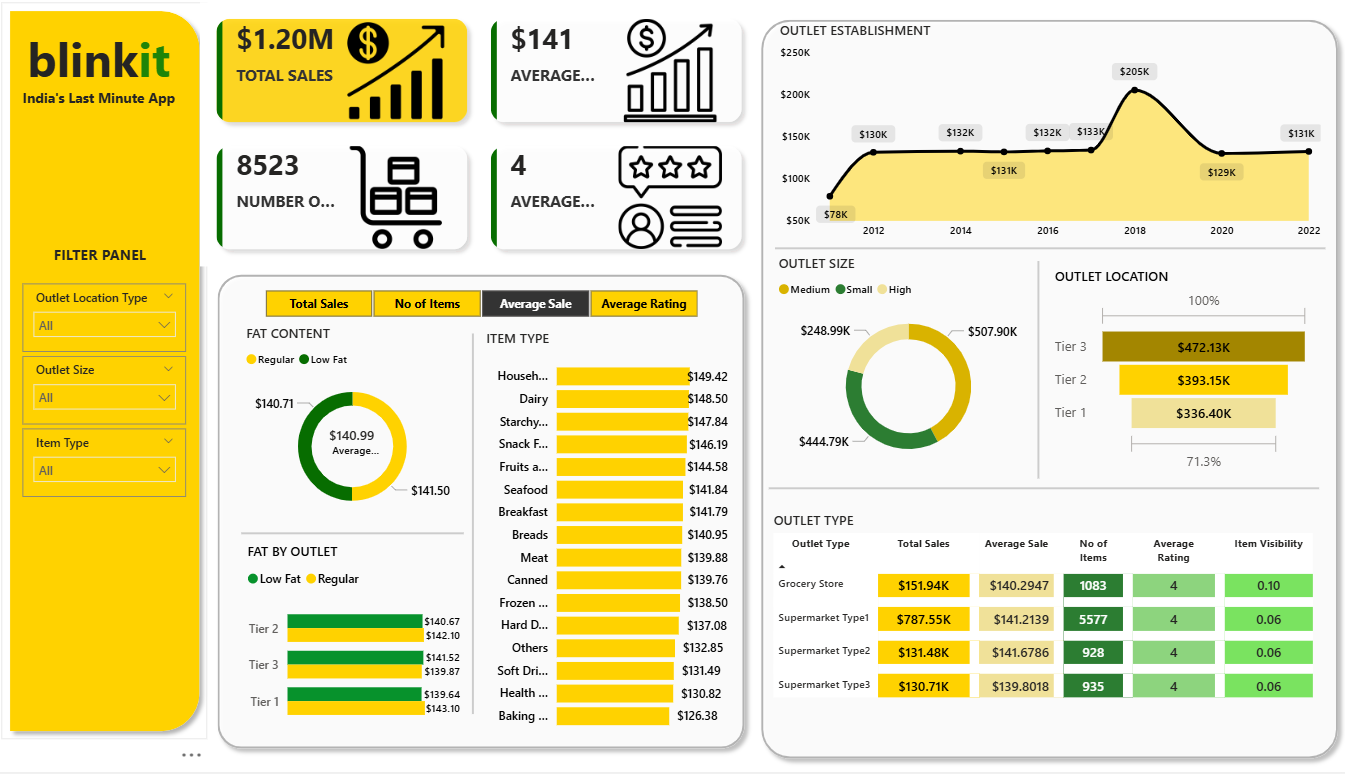

The dashboard page shown, as its layout file describes it:
{"tool":"powerbi","page":{"name":"Page 1","canvas":[1400,800],"ordinal":0},"visuals":[{"type":"shape","box":[21.3,16,210.7,750.7],"z":0},{"type":"textbox","box":[33.5,36.2,175.6,80.4],"z":1000},{"type":"textbox","box":[33.5,99.2,175.6,34.9],"z":2000},{"type":"cardVisual","fields":{"Data":["BlinkIT Grocery Data.Total Sales","BlinkIT Grocery Data.Average Sale","BlinkIT Grocery Data.No of Items","BlinkIT Grocery Data.Average Rating"]},"box":[224.3,16.2,568.9,268.9],"z":3000},{"type":"shape","box":[232.4,285.1,554.1,500],"z":4000},{"type":"donutChart","title":"FAT CONTENT","fields":{"Y":["BlinkIT Grocery Data.No of Items"],"Category":["BlinkIT Grocery Data.Item Fat Content"]},"box":[265.4,343.2,226.5,205.1],"z":5000},{"type":"slicer","fields":{"Values":["Metrics.Metrics"]},"box":[264.9,302.7,489.2,40.5],"z":6000},{"type":"cardVisual","fields":{"Data":["BlinkIT Grocery Data.No of Items"]},"box":[331.1,430.3,95.2,67],"z":7000},{"type":"clusteredBarChart","title":"FAT BY OUTLET","fields":{"Y":["BlinkIT Grocery Data.No of Items"],"Series":["BlinkIT Grocery Data.Item Fat Content"],"Category":["BlinkIT Grocery Data.Outlet Location Type"]},"box":[266.7,565.3,226.7,197.3],"z":8000},{"type":"shape","box":[265.4,548.3,226.5,17.4],"z":9000},{"type":"shape","box":[493.3,353.9,16.1,387.4],"z":10000},{"type":"barChart","title":"ITEM TYPE","fields":{"Y":["BlinkIT Grocery Data.No of Items"],"Category":["BlinkIT Grocery Data.Item Type"]},"box":[509.4,348.5,256,418.2],"z":11000},{"type":"shape","box":[785.5,16.1,604.6,769.4],"z":12000},{"type":"lineChart","title":"OUTLET ESTABLISHMENT","fields":{"Category":["BlinkIT Grocery Data.Outlet Establishment Year"],"Y":["BlinkIT Grocery Data.Total Sales"]},"box":[808.3,36.2,560.3,230.6],"z":13000},{"type":"shape","box":[808.3,258.7,560.3,17.4],"z":14000},{"type":"donutChart","title":"OUTLET SIZE","fields":{"Y":["BlinkIT Grocery Data.Total Sales"],"Category":["BlinkIT Grocery Data.Outlet Size"]},"box":[808,272,274.7,225.3],"z":14001},{"type":"shape","box":[1070.7,280,12,221.3],"z":14002},{"type":"funnel","title":"OUTLET LOCATION","fields":{"Category":["BlinkIT Grocery Data.Outlet Location Type"],"Y":["BlinkIT Grocery Data.Total Sales"]},"box":[1088.5,285.5,269.4,211.8],"z":14003},{"type":"shape","box":[802.7,502.7,560,17.3],"z":14004},{"type":"pivotTable","title":"OUTLET TYPE","fields":{"Rows":["BlinkIT Grocery Data.Outlet Type"],"Values":["BlinkIT Grocery Data.Total Sales","BlinkIT Grocery Data.Average Sale","BlinkIT Grocery Data.No of Items","BlinkIT Grocery Data.Average Rating","Avg(BlinkIT Grocery Data.Item Visibility)"]},"box":[802.7,534.7,560,206.7],"z":14005},{"type":"slicer","fields":{"Values":["BlinkIT Grocery Data.Outlet Location Type"]},"box":[42.7,302.7,166.7,69.3],"z":14006},{"type":"slicer","fields":{"Values":["BlinkIT Grocery Data.Outlet Size"]},"box":[42.7,376,166.7,69.3],"z":14007},{"type":"slicer","fields":{"Values":["BlinkIT Grocery Data.Item Type"]},"box":[42.7,450.7,166.7,69.3],"z":14008},{"type":"textbox","box":[69.3,258.7,114.7,34.7],"z":14009}]}

Visuals, with their boxes in screenshot pixels (x1, y1, x2, y2), scaled from the page's 1400x800 canvas onto the 1345x774 screenshot:
shape: pyautogui.locateOnScreen(20, 15, 223, 742)
textbox: pyautogui.locateOnScreen(32, 35, 201, 113)
textbox: pyautogui.locateOnScreen(32, 96, 201, 130)
cardVisual - BlinkIT Grocery Data.Total Sales x BlinkIT Grocery Data.Average Sale: pyautogui.locateOnScreen(215, 16, 762, 276)
shape: pyautogui.locateOnScreen(223, 276, 756, 760)
"FAT CONTENT" donutChart: pyautogui.locateOnScreen(255, 332, 473, 530)
slicer - Metrics.Metrics: pyautogui.locateOnScreen(254, 293, 724, 332)
cardVisual - BlinkIT Grocery Data.No of Items: pyautogui.locateOnScreen(318, 416, 410, 481)
"FAT BY OUTLET" clusteredBarChart: pyautogui.locateOnScreen(256, 547, 474, 738)
shape: pyautogui.locateOnScreen(255, 530, 473, 547)
shape: pyautogui.locateOnScreen(474, 342, 489, 717)
"ITEM TYPE" barChart: pyautogui.locateOnScreen(489, 337, 735, 742)
shape: pyautogui.locateOnScreen(755, 16, 1335, 760)
"OUTLET ESTABLISHMENT" lineChart: pyautogui.locateOnScreen(777, 35, 1315, 258)
shape: pyautogui.locateOnScreen(777, 250, 1315, 267)
"OUTLET SIZE" donutChart: pyautogui.locateOnScreen(776, 263, 1040, 481)
shape: pyautogui.locateOnScreen(1029, 271, 1040, 485)
"OUTLET LOCATION" funnel: pyautogui.locateOnScreen(1046, 276, 1305, 481)
shape: pyautogui.locateOnScreen(771, 486, 1309, 503)
"OUTLET TYPE" pivotTable: pyautogui.locateOnScreen(771, 517, 1309, 717)
slicer - BlinkIT Grocery Data.Outlet Location Type: pyautogui.locateOnScreen(41, 293, 201, 360)
slicer - BlinkIT Grocery Data.Outlet Size: pyautogui.locateOnScreen(41, 364, 201, 431)
slicer - BlinkIT Grocery Data.Item Type: pyautogui.locateOnScreen(41, 436, 201, 503)
textbox: pyautogui.locateOnScreen(67, 250, 177, 284)
